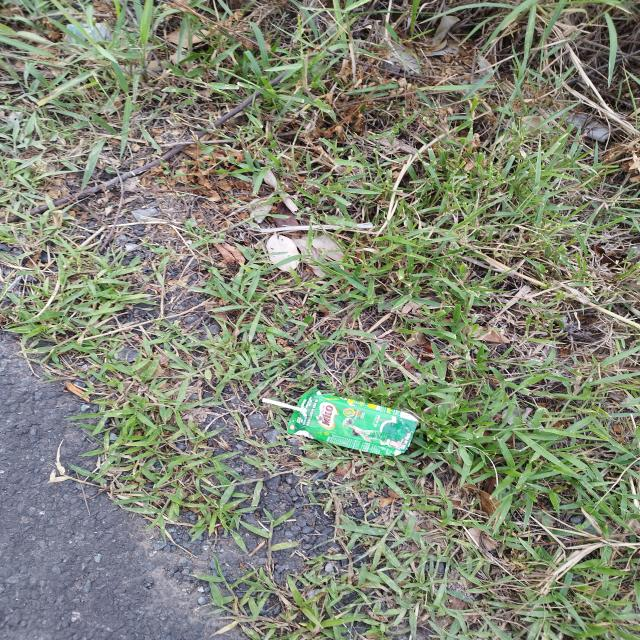drinking straw: (261, 398, 307, 412)
milk box: (287, 389, 418, 456)
